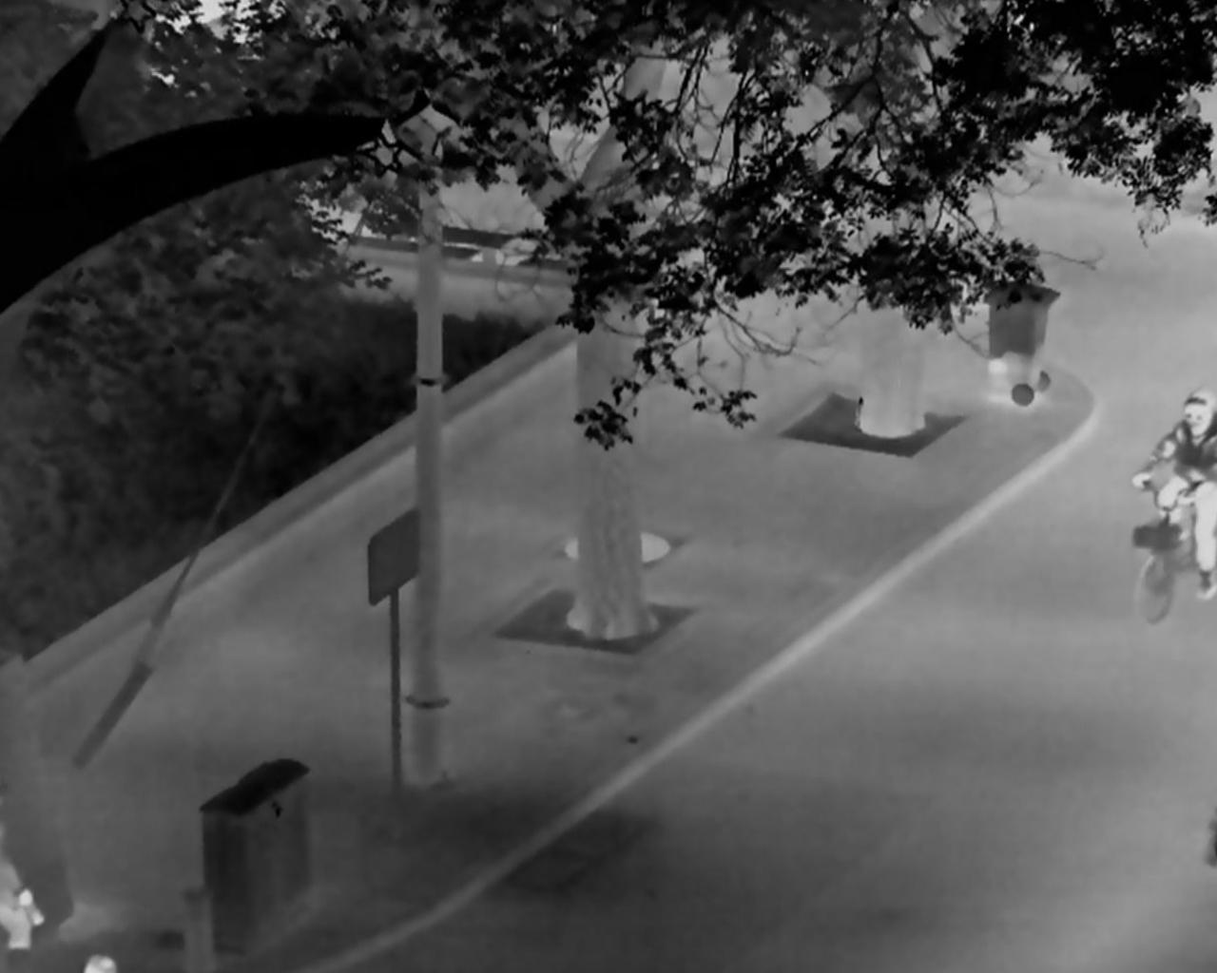person: (1134, 388, 1217, 600)
